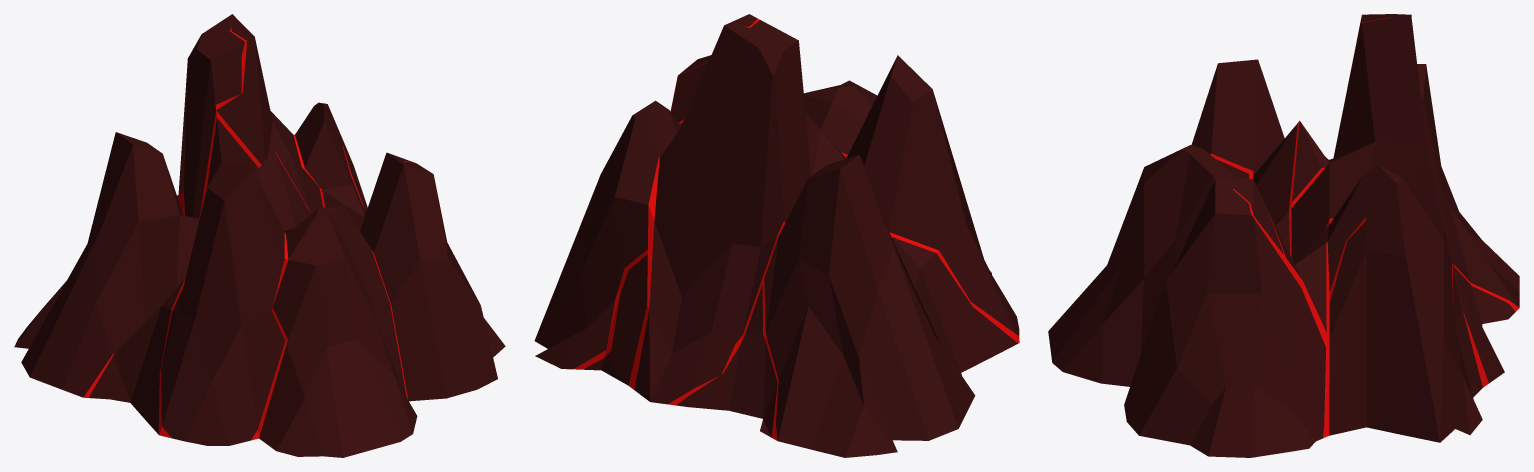
The model's file is LavaMountain.fbx.
The picture shows the model from 3 angles, left to right: view 1: azimuth 30°, elevation 25°; view 2: azimuth 150°, elevation 25°; view 3: azimuth 270°, elevation 25°; orthographic projection. The views are drawn at different scales.
Parts seen in each view (by area): view 1: LavaMountain; view 2: LavaMountain; view 3: LavaMountain.
Part boxes in pixels (x1,y1,x2,y2): LavaMountain: (14, 14, 505, 457); LavaMountain: (534, 14, 1019, 457); LavaMountain: (1048, 14, 1519, 457).
Size of the model in its own units: 2355 by 1797 by 2235.
